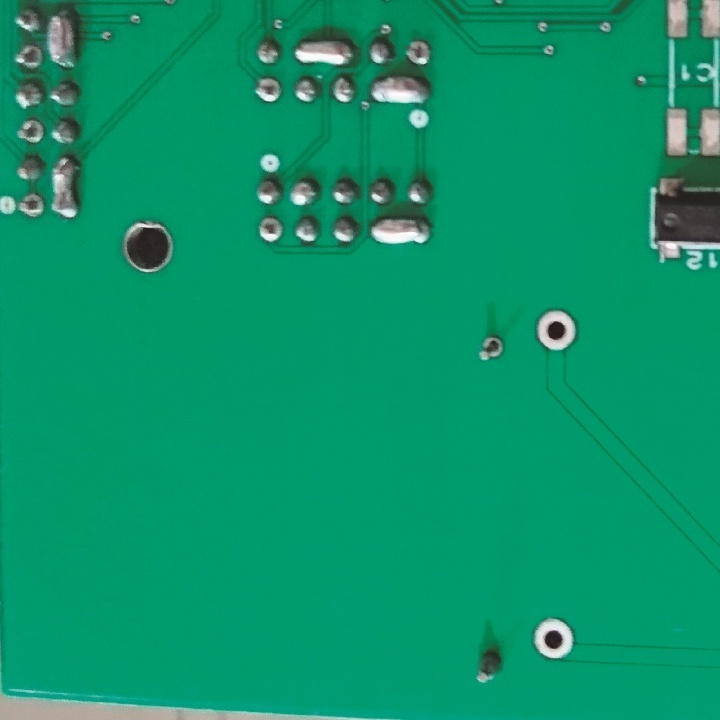F: (531, 615, 579, 665), (532, 306, 577, 352), (404, 37, 433, 72), (475, 330, 504, 365), (253, 75, 284, 104), (16, 189, 47, 218), (15, 118, 47, 146), (255, 215, 284, 245), (13, 42, 42, 70)
P: (44, 6, 83, 75), (369, 74, 433, 110), (50, 154, 82, 223), (368, 214, 428, 249), (293, 35, 355, 66)
